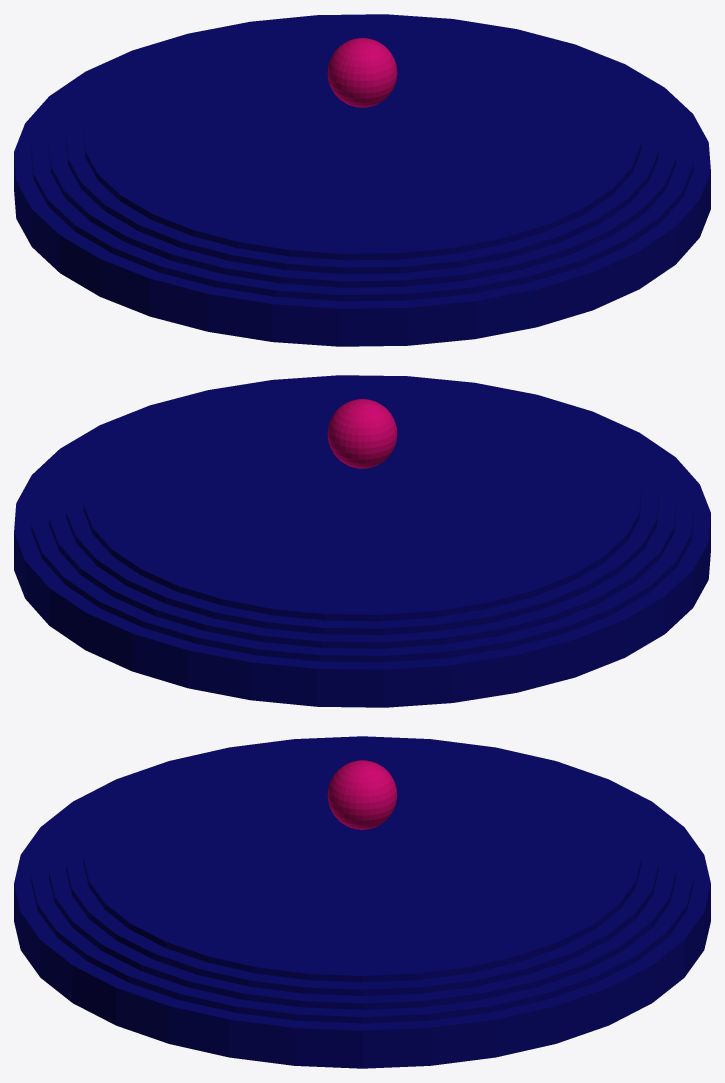
Rendered from bossGenerator.obj.
3 views of the same model, one above another, from view 1: azimuth 30°, elevation 25°; view 2: azimuth 150°, elevation 25°; view 3: azimuth 270°, elevation 25° (orthographic).
Parts seen in each view (by area): view 1: platform_円柱.004, sphere_球; view 2: platform_円柱.004, sphere_球; view 3: platform_円柱.004, sphere_球.
Part boxes in pixels (<box>): platform_円柱.004: <box>14,14,710,346</box>; sphere_球: <box>327,38,397,107</box>; platform_円柱.004: <box>14,375,710,707</box>; sphere_球: <box>327,399,397,468</box>; platform_円柱.004: <box>14,736,710,1068</box>; sphere_球: <box>327,760,397,829</box>.
Size of the model in its own units: 20 by 5 by 20.
2 materials, 2 textured.
